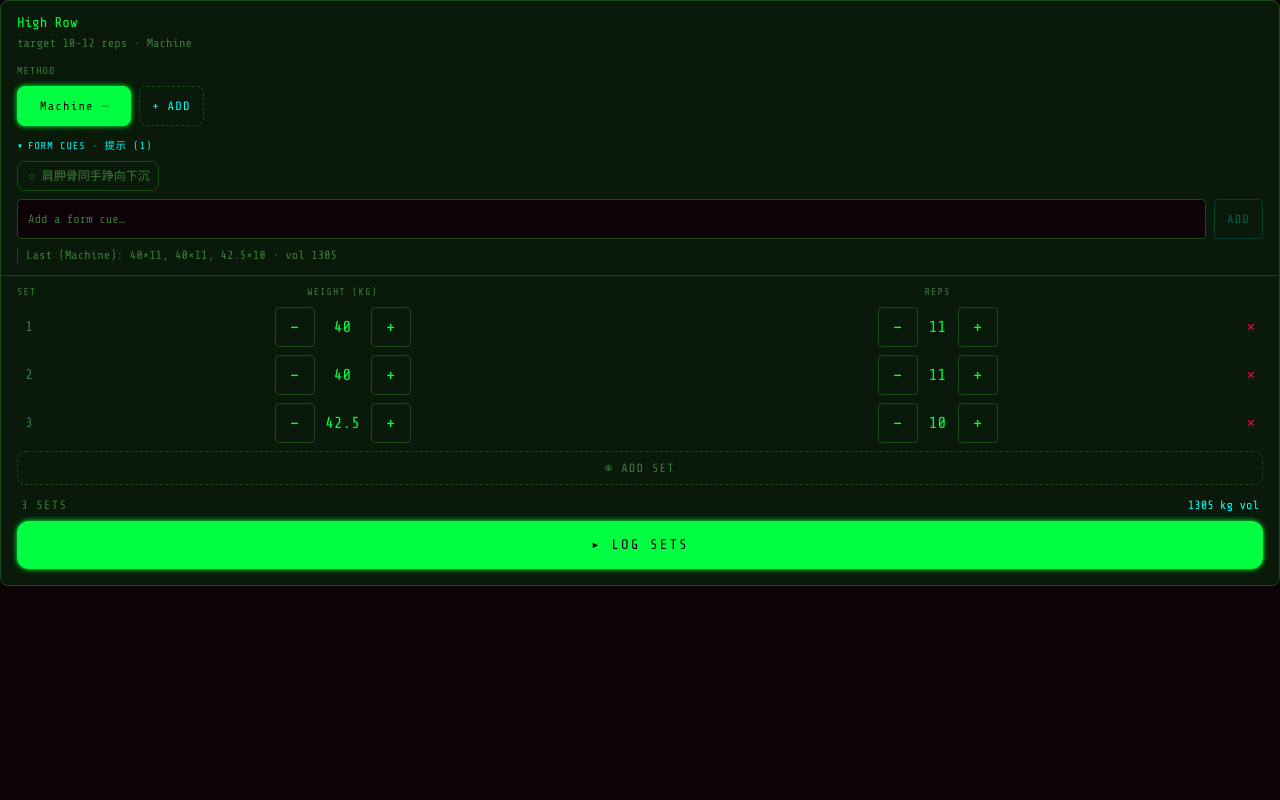
SetBySetCard › lets the user add a new form cue
Type "膊頭放鬆" into the field with test id "add-cue-input-7" at (612, 219), box [17, 199, 1206, 239]
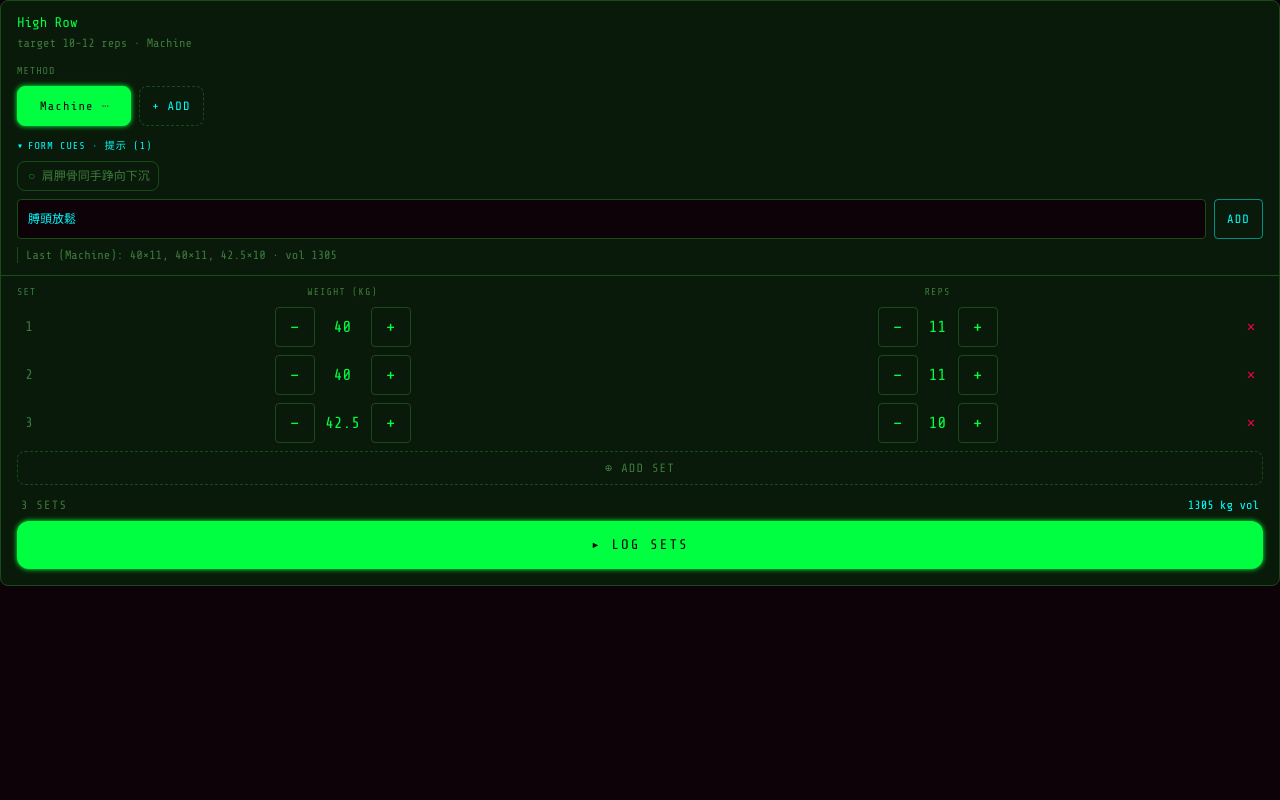
Click the button with test id "add-cue-submit-7" at (1238, 219), box [1214, 199, 1263, 239]
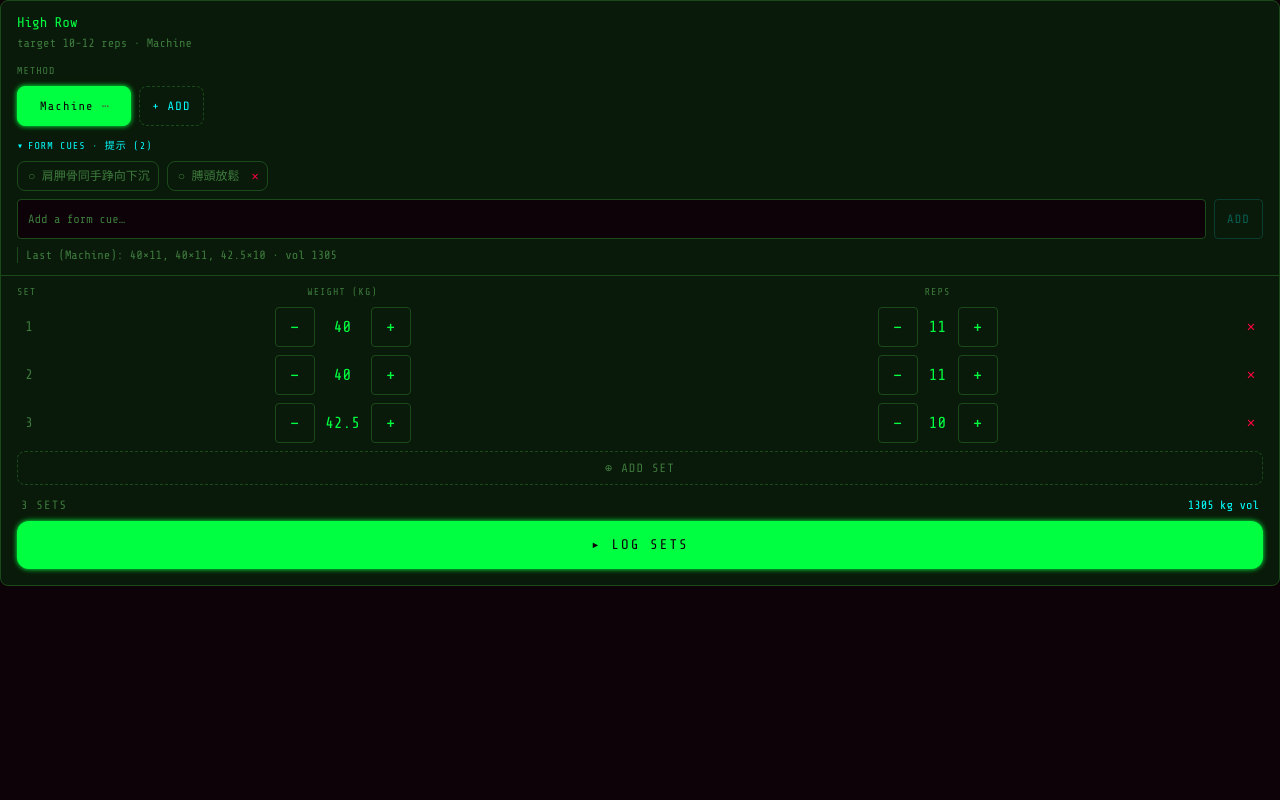
Now the button with test id "reminder-cue-7-1" shows "膊頭放鬆", box [168, 162, 247, 190]
Now the field with test id "add-cue-input-7" is empty, box [17, 199, 1206, 239]
